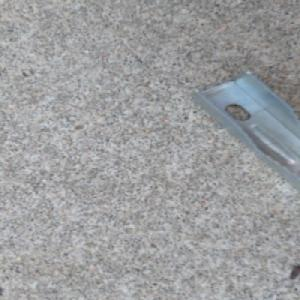ClampPart: (183, 66, 300, 196)
